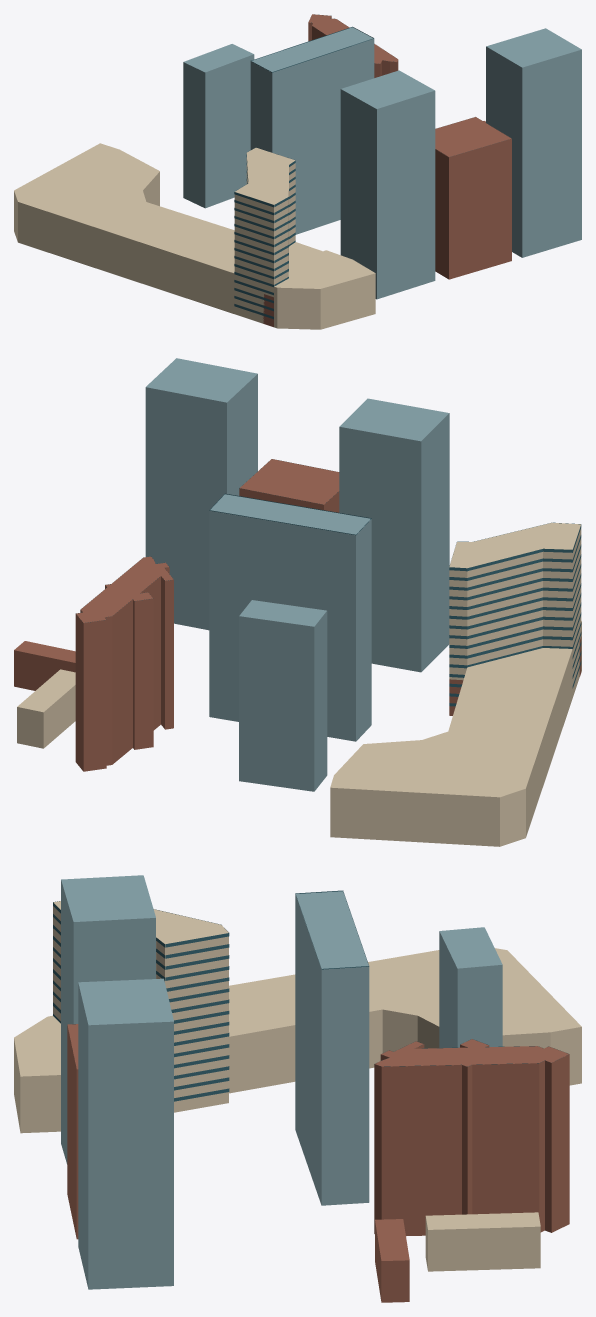
Rendered from city_-2_-7.glb.
3 views of the same model, one above another, from view 1: azimuth 30°, elevation 25°; view 2: azimuth 150°, elevation 25°; view 3: azimuth 270°, elevation 25° (orthographic). The views are drawn at different scales.
Parts seen in each view (by area): view 1: city_-2_-7; view 2: city_-2_-7; view 3: city_-2_-7.
Part boxes in pixels (box(x1,y1,x2,y2)): city_-2_-7: box(14, 14, 581, 329); city_-2_-7: box(14, 358, 581, 846); city_-2_-7: box(14, 875, 581, 1302).
Size of the model in its own units: 233 by 95.2 by 185.
